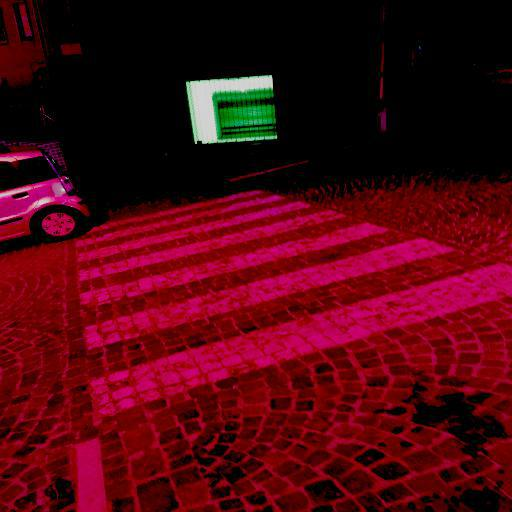crosswalk: (78, 235, 512, 420)
